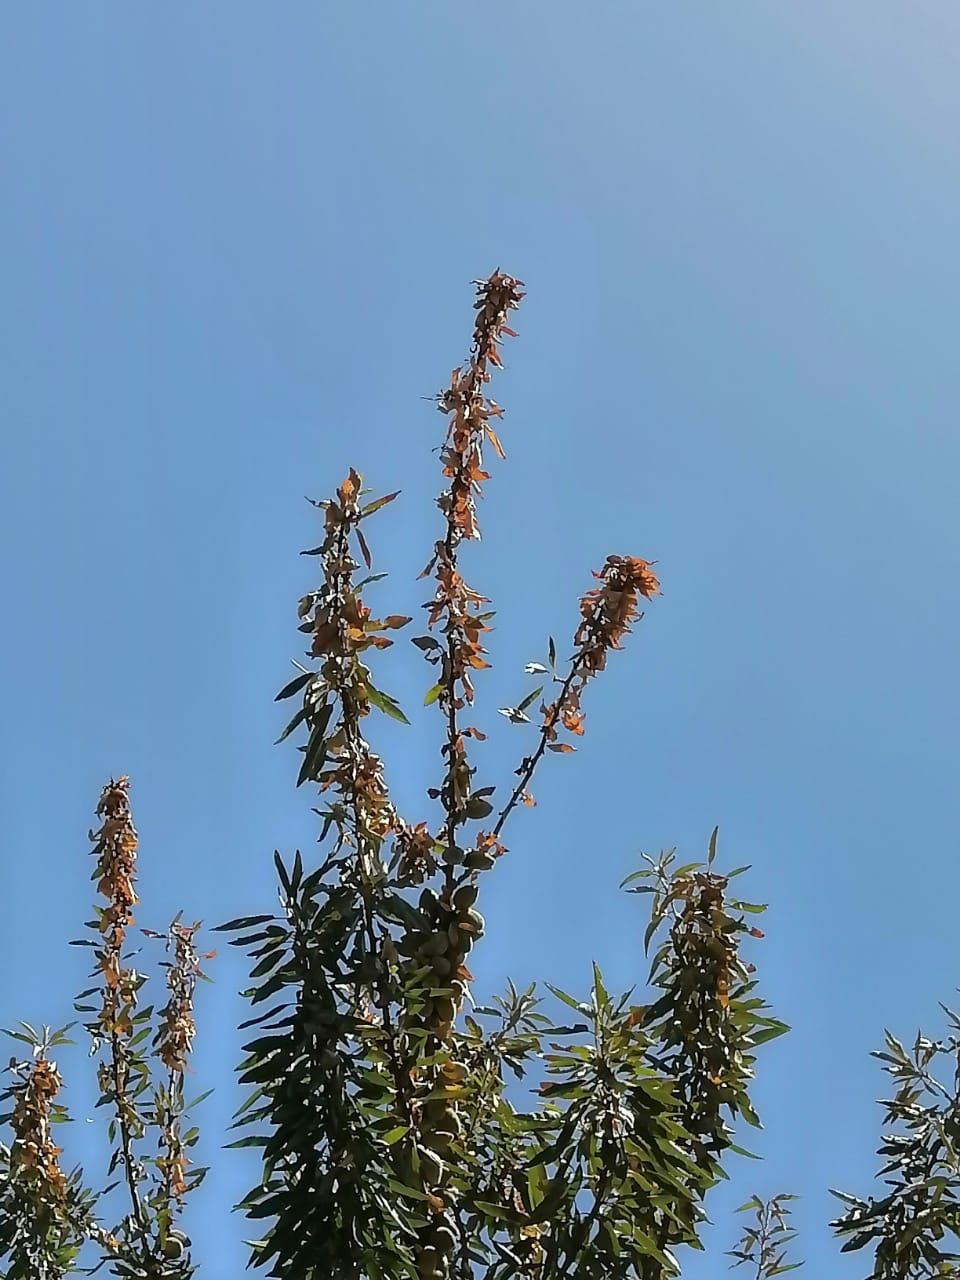scolytes: (422, 273, 525, 707), (294, 473, 413, 845), (141, 917, 217, 1187), (72, 775, 144, 1040)
